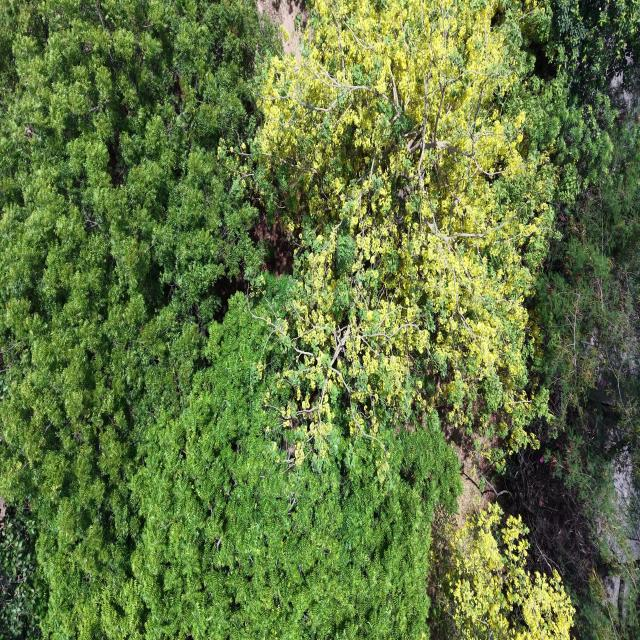DRY_AREA: (455, 434, 494, 525), (257, 0, 309, 58), (455, 458, 494, 527)
VEGETATION_TREE: (0, 0, 639, 639), (0, 1, 457, 639), (0, 1, 266, 636), (260, 1, 557, 475), (502, 1, 639, 637), (537, 1, 639, 430), (432, 504, 574, 639), (0, 500, 46, 639)
